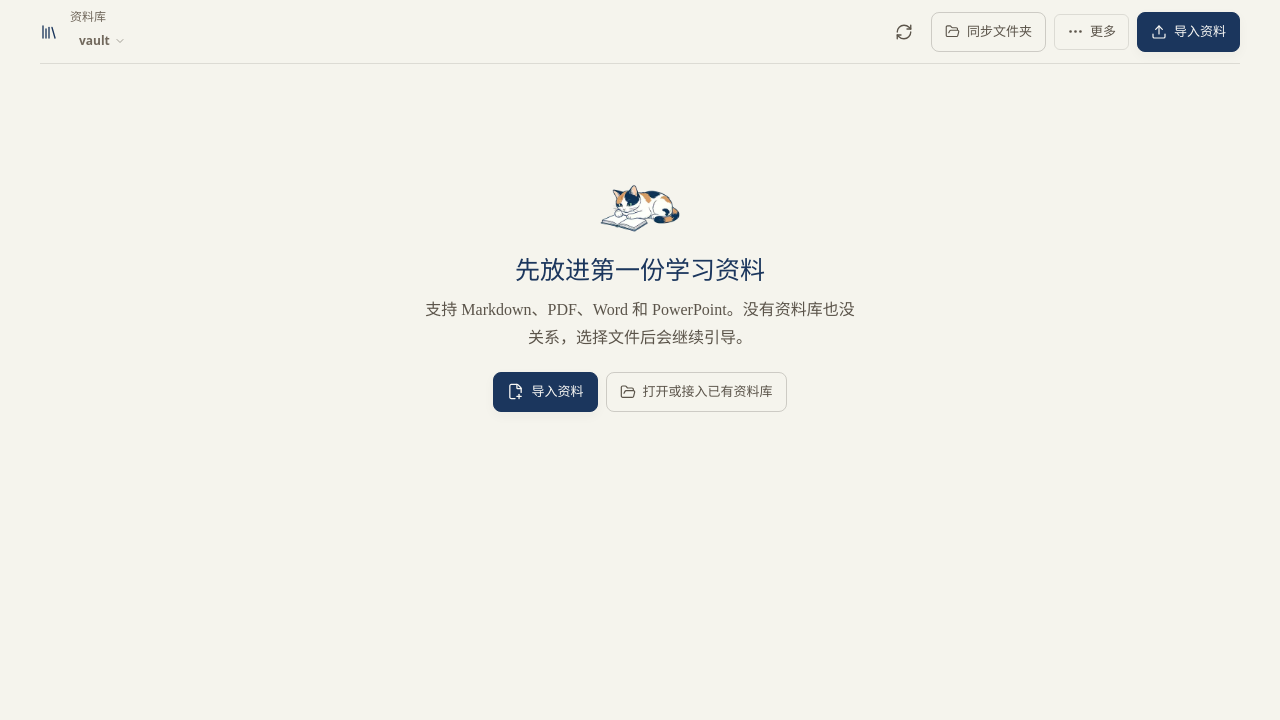
资料库文件夹同步 › 扫描不完整时明确说明并且不谎报移除
Click the button "同步文件夹".
click(988, 32)  # box [931,12,1046,52]
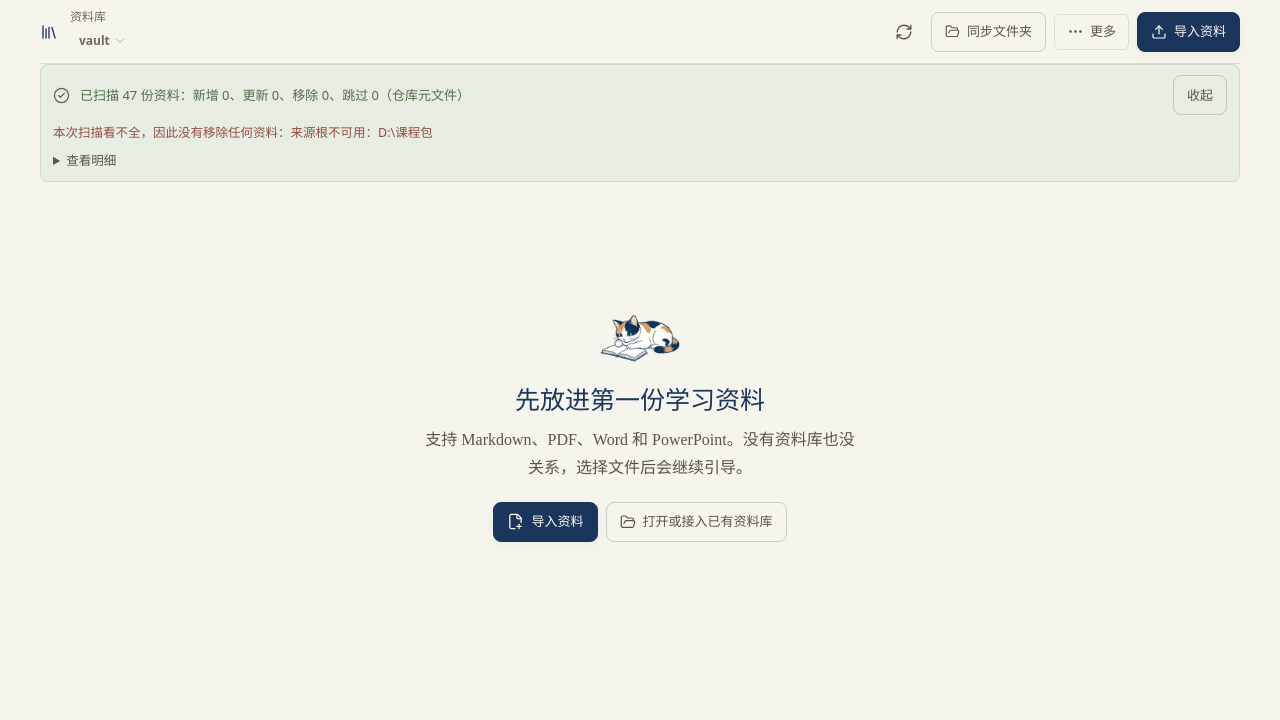
Now the message shows "本次扫描看不全", box [53,124,290,141]
Now the message shows "来源根不可用", box [290,124,433,141]
